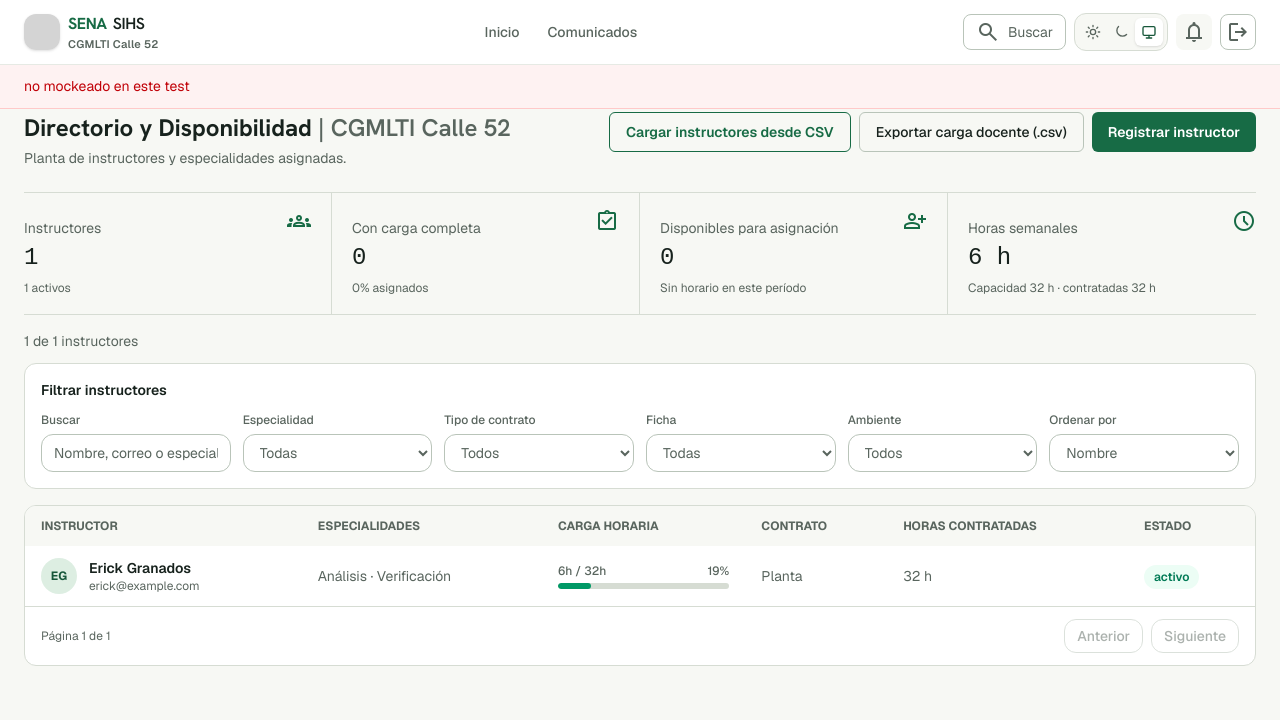
Test: Instructores › Escape cierra el drawer
This screenshot has width=1280, height=720.
Click the text "Erick Granados": coordinates (144, 568) left=89, top=558, right=200, bottom=578
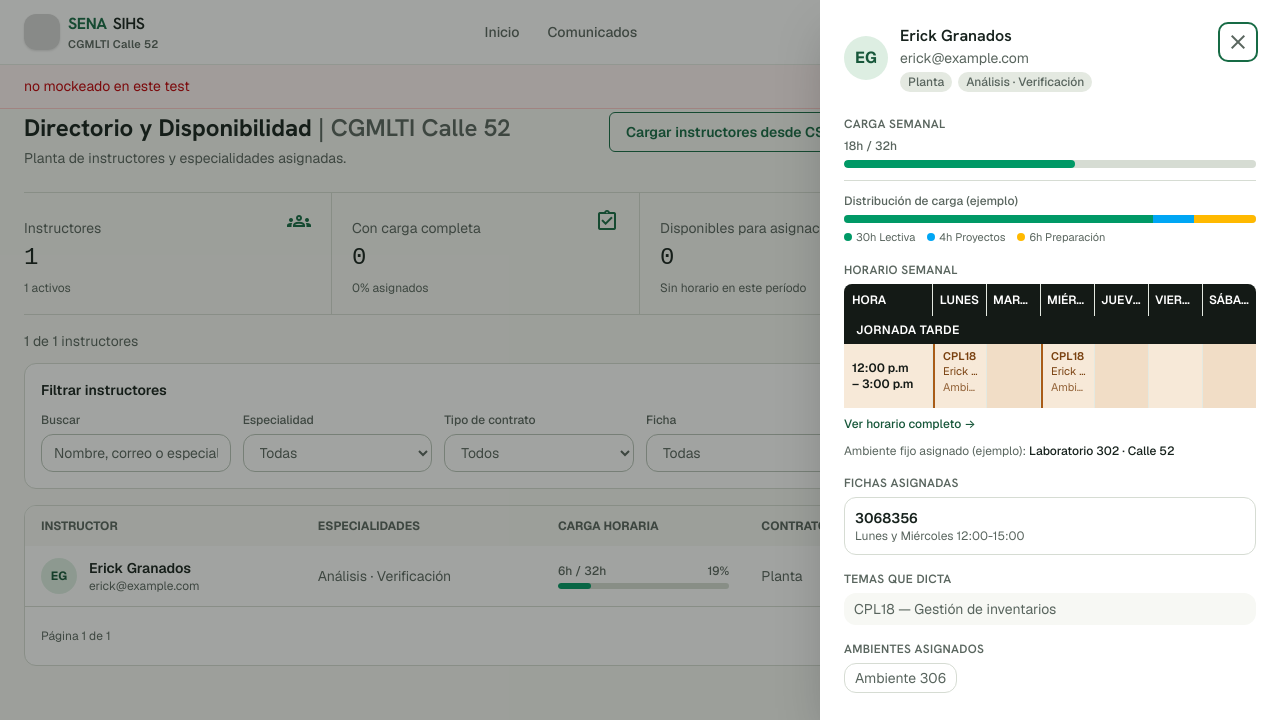
Check: the dialog is shown, box left=820, top=0, right=1279, bottom=719
Press Escape
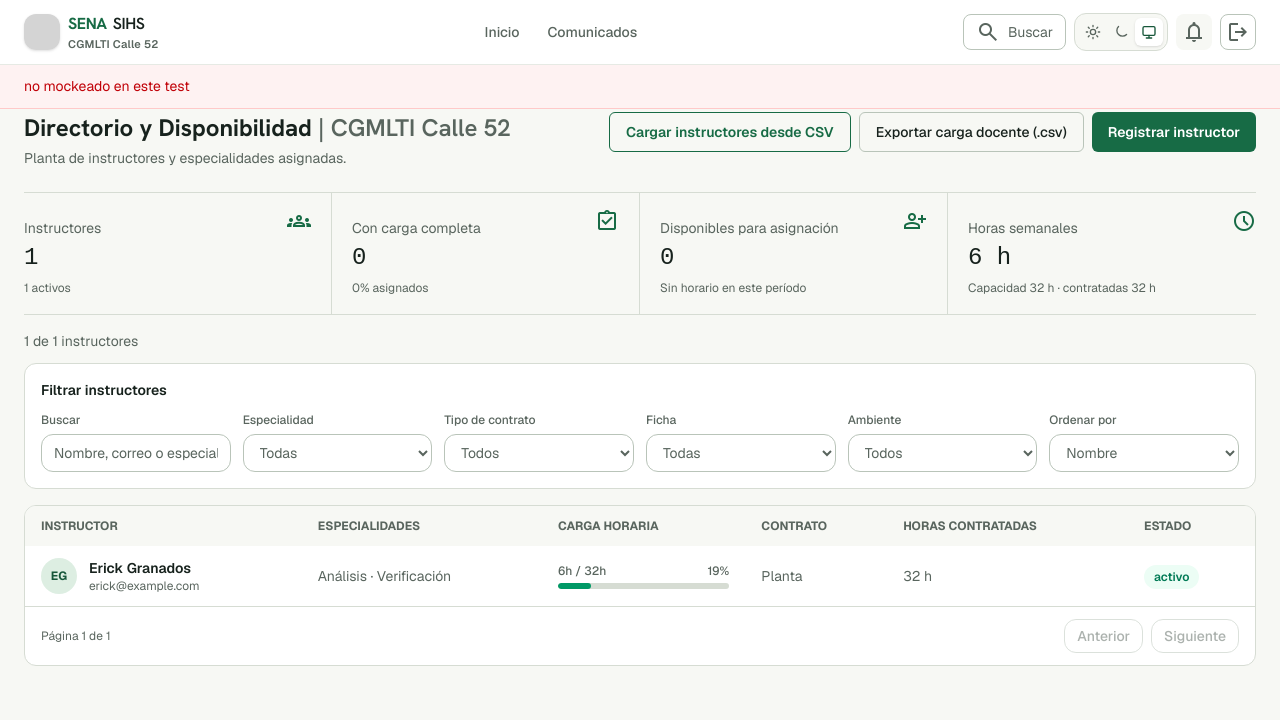
Check: the dialog is gone
